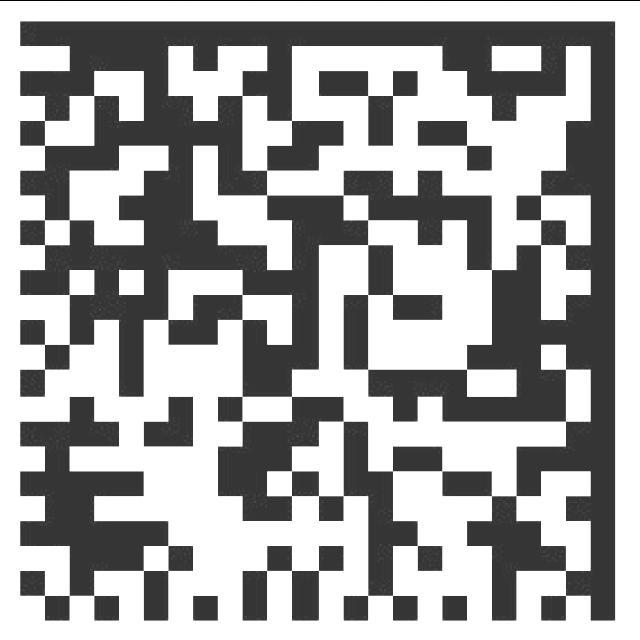Data-Matrix: (16, 9, 631, 640)
